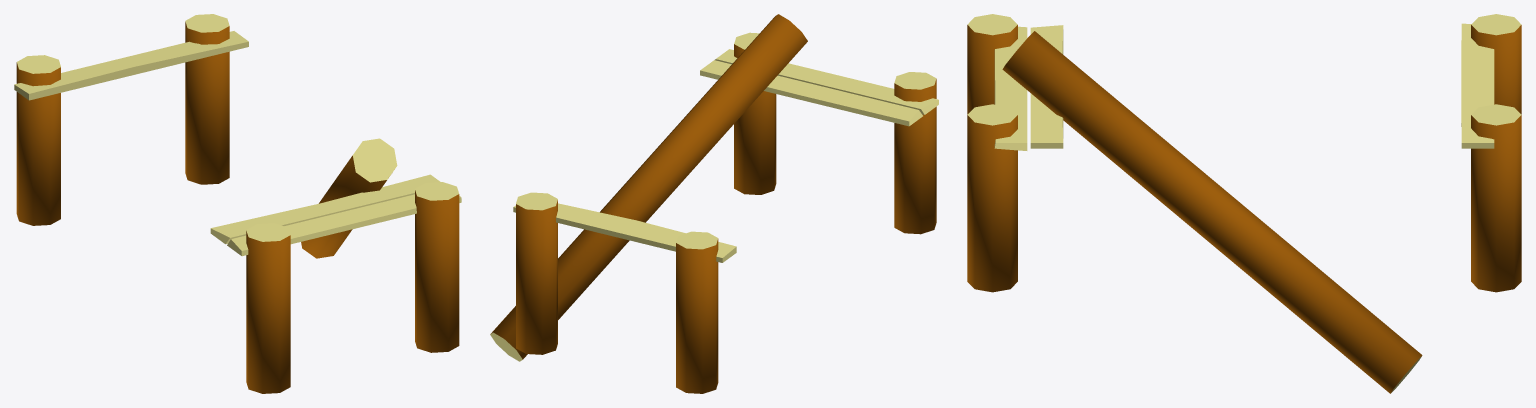
Rendered from bridgeBroken.fbx.
3 renders of one model, left to right at view 1: azimuth 30°, elevation 25°; view 2: azimuth 150°, elevation 25°; view 3: azimuth 270°, elevation 25°, orthographic. The views are drawn at different scales.
Visible parts, largest first — view 1: BridgeBroken; view 2: BridgeBroken; view 3: BridgeBroken.
Part boxes in pixels (<box>): BridgeBroken: <box>14,14,461,393</box>; BridgeBroken: <box>490,14,938,393</box>; BridgeBroken: <box>967,14,1521,393</box>.
Size of the model in its own units: 1434 by 1288 by 2196.
